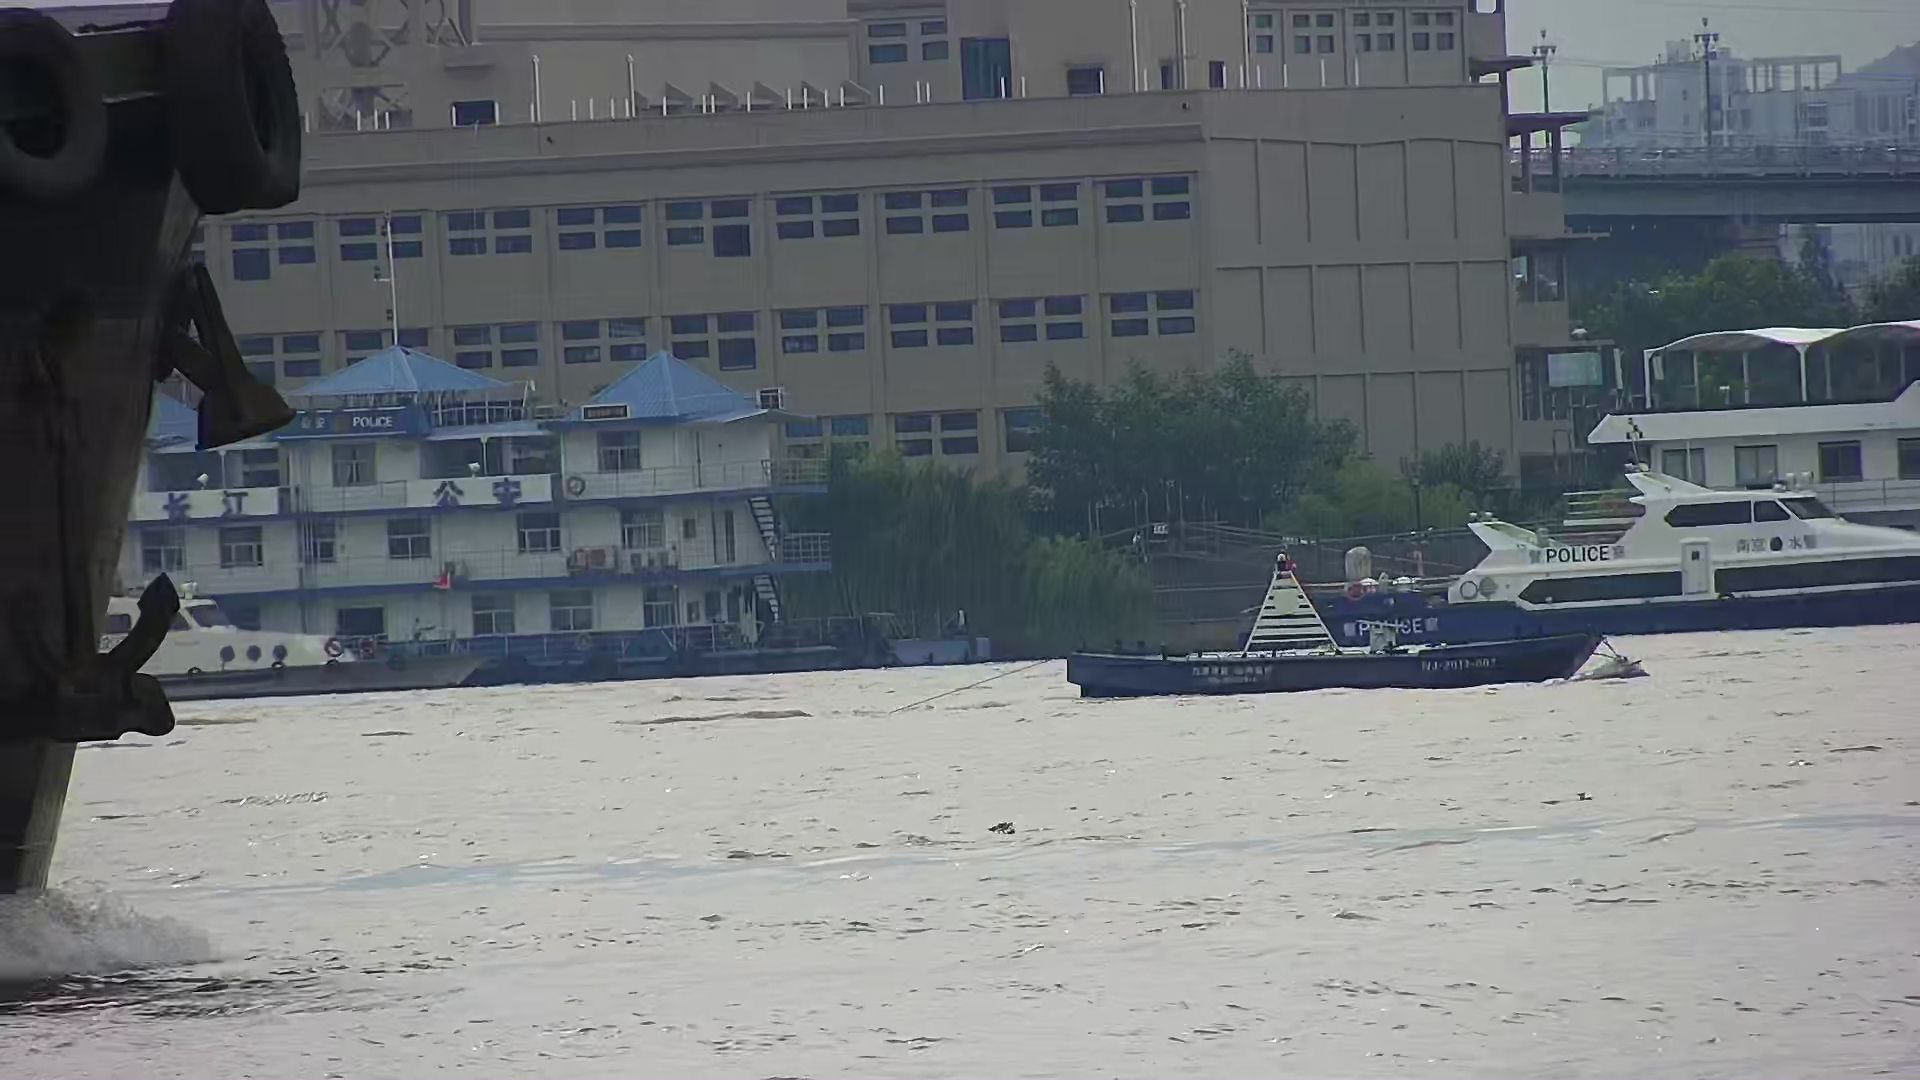boat: (1065, 551, 1651, 698)
ship: (1439, 469, 1920, 636), (107, 576, 491, 702)
